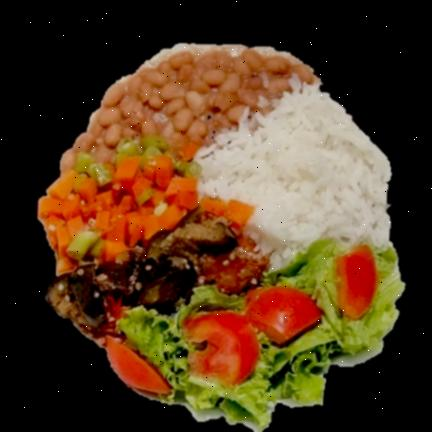beans: (60, 45, 315, 171)
carrot: (32, 157, 241, 263)
rice: (199, 91, 392, 270)
salad: (126, 238, 401, 432)
tomato: (183, 286, 322, 386), (102, 336, 170, 395), (335, 247, 375, 319)
